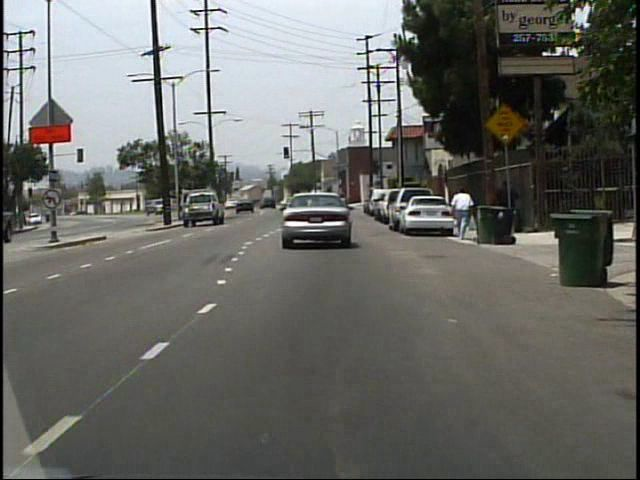person: (449, 186, 475, 242)
